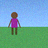person: (8, 12, 20, 35)
